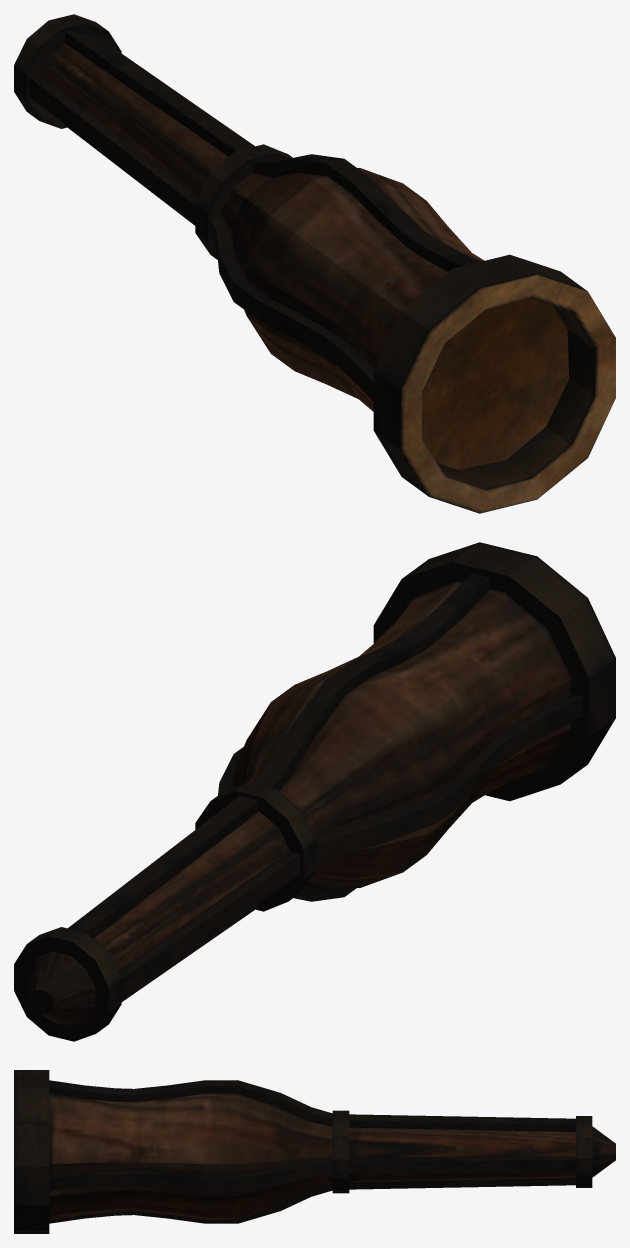
The model's file is flame.obj.
3 renders of one model, top to bottom at view 1: azimuth 30°, elevation 25°; view 2: azimuth 150°, elevation 25°; view 3: azimuth 270°, elevation 25°, orthographic. The views are drawn at different scales.
Bounding box in the file's own units: 4.79 × 4.79 × 17.97.
Materials: 1 (1 with a texture image).
